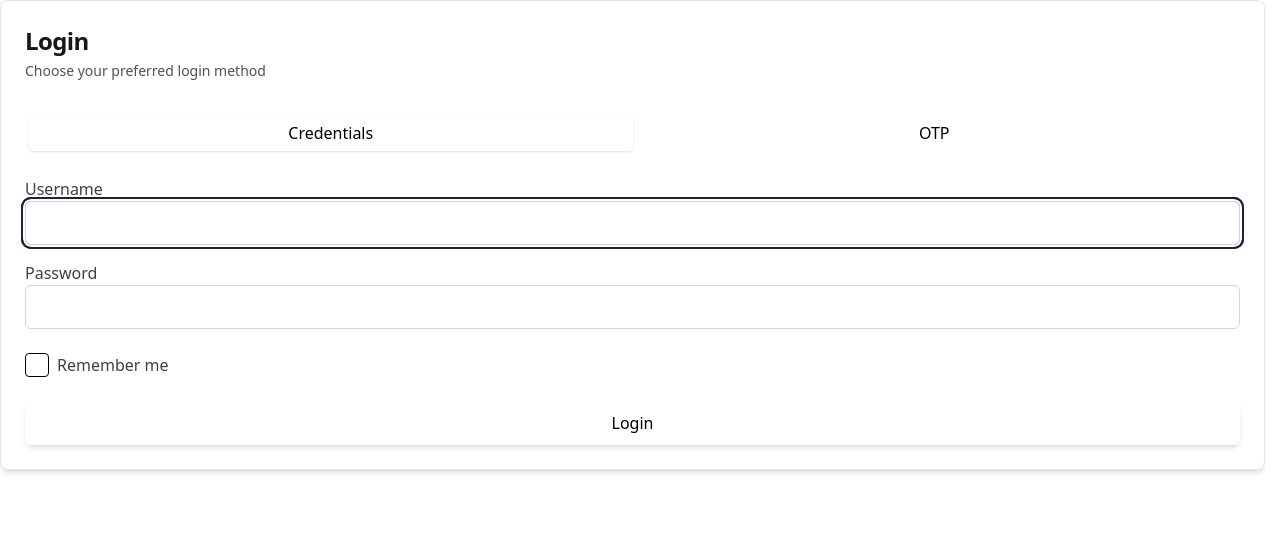
Scenario: LoginForm Component › should validate username and password on submit
This screenshot has width=1280, height=547.
Click the button "Login".
click(632, 423)  # box [25,401,1240,445]
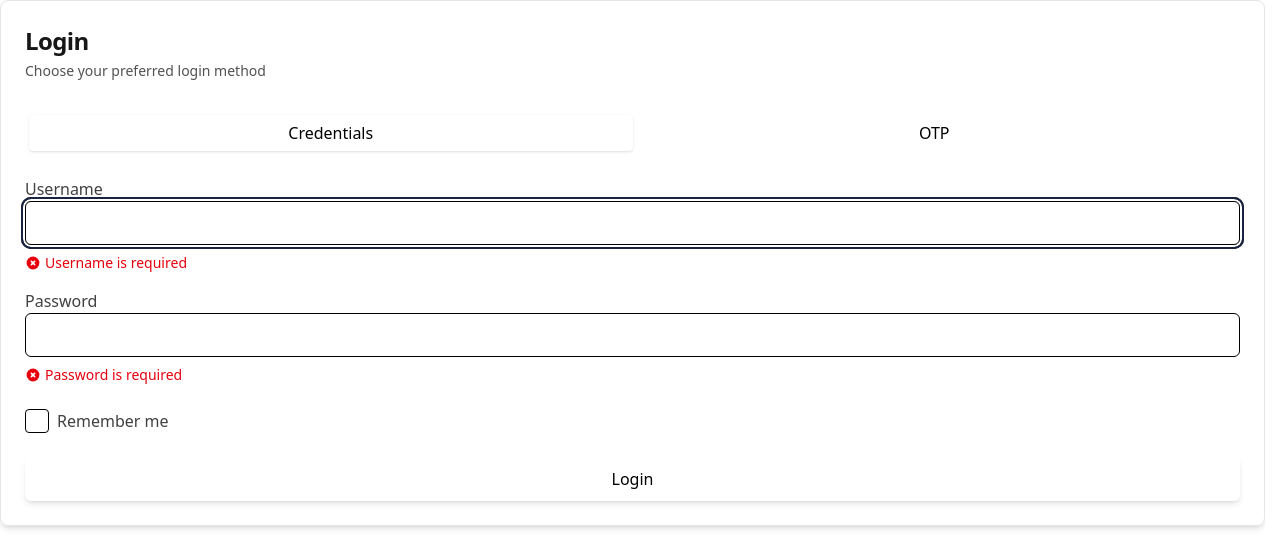
Check: the text "Username is required" is shown, box [25,253,187,272]
